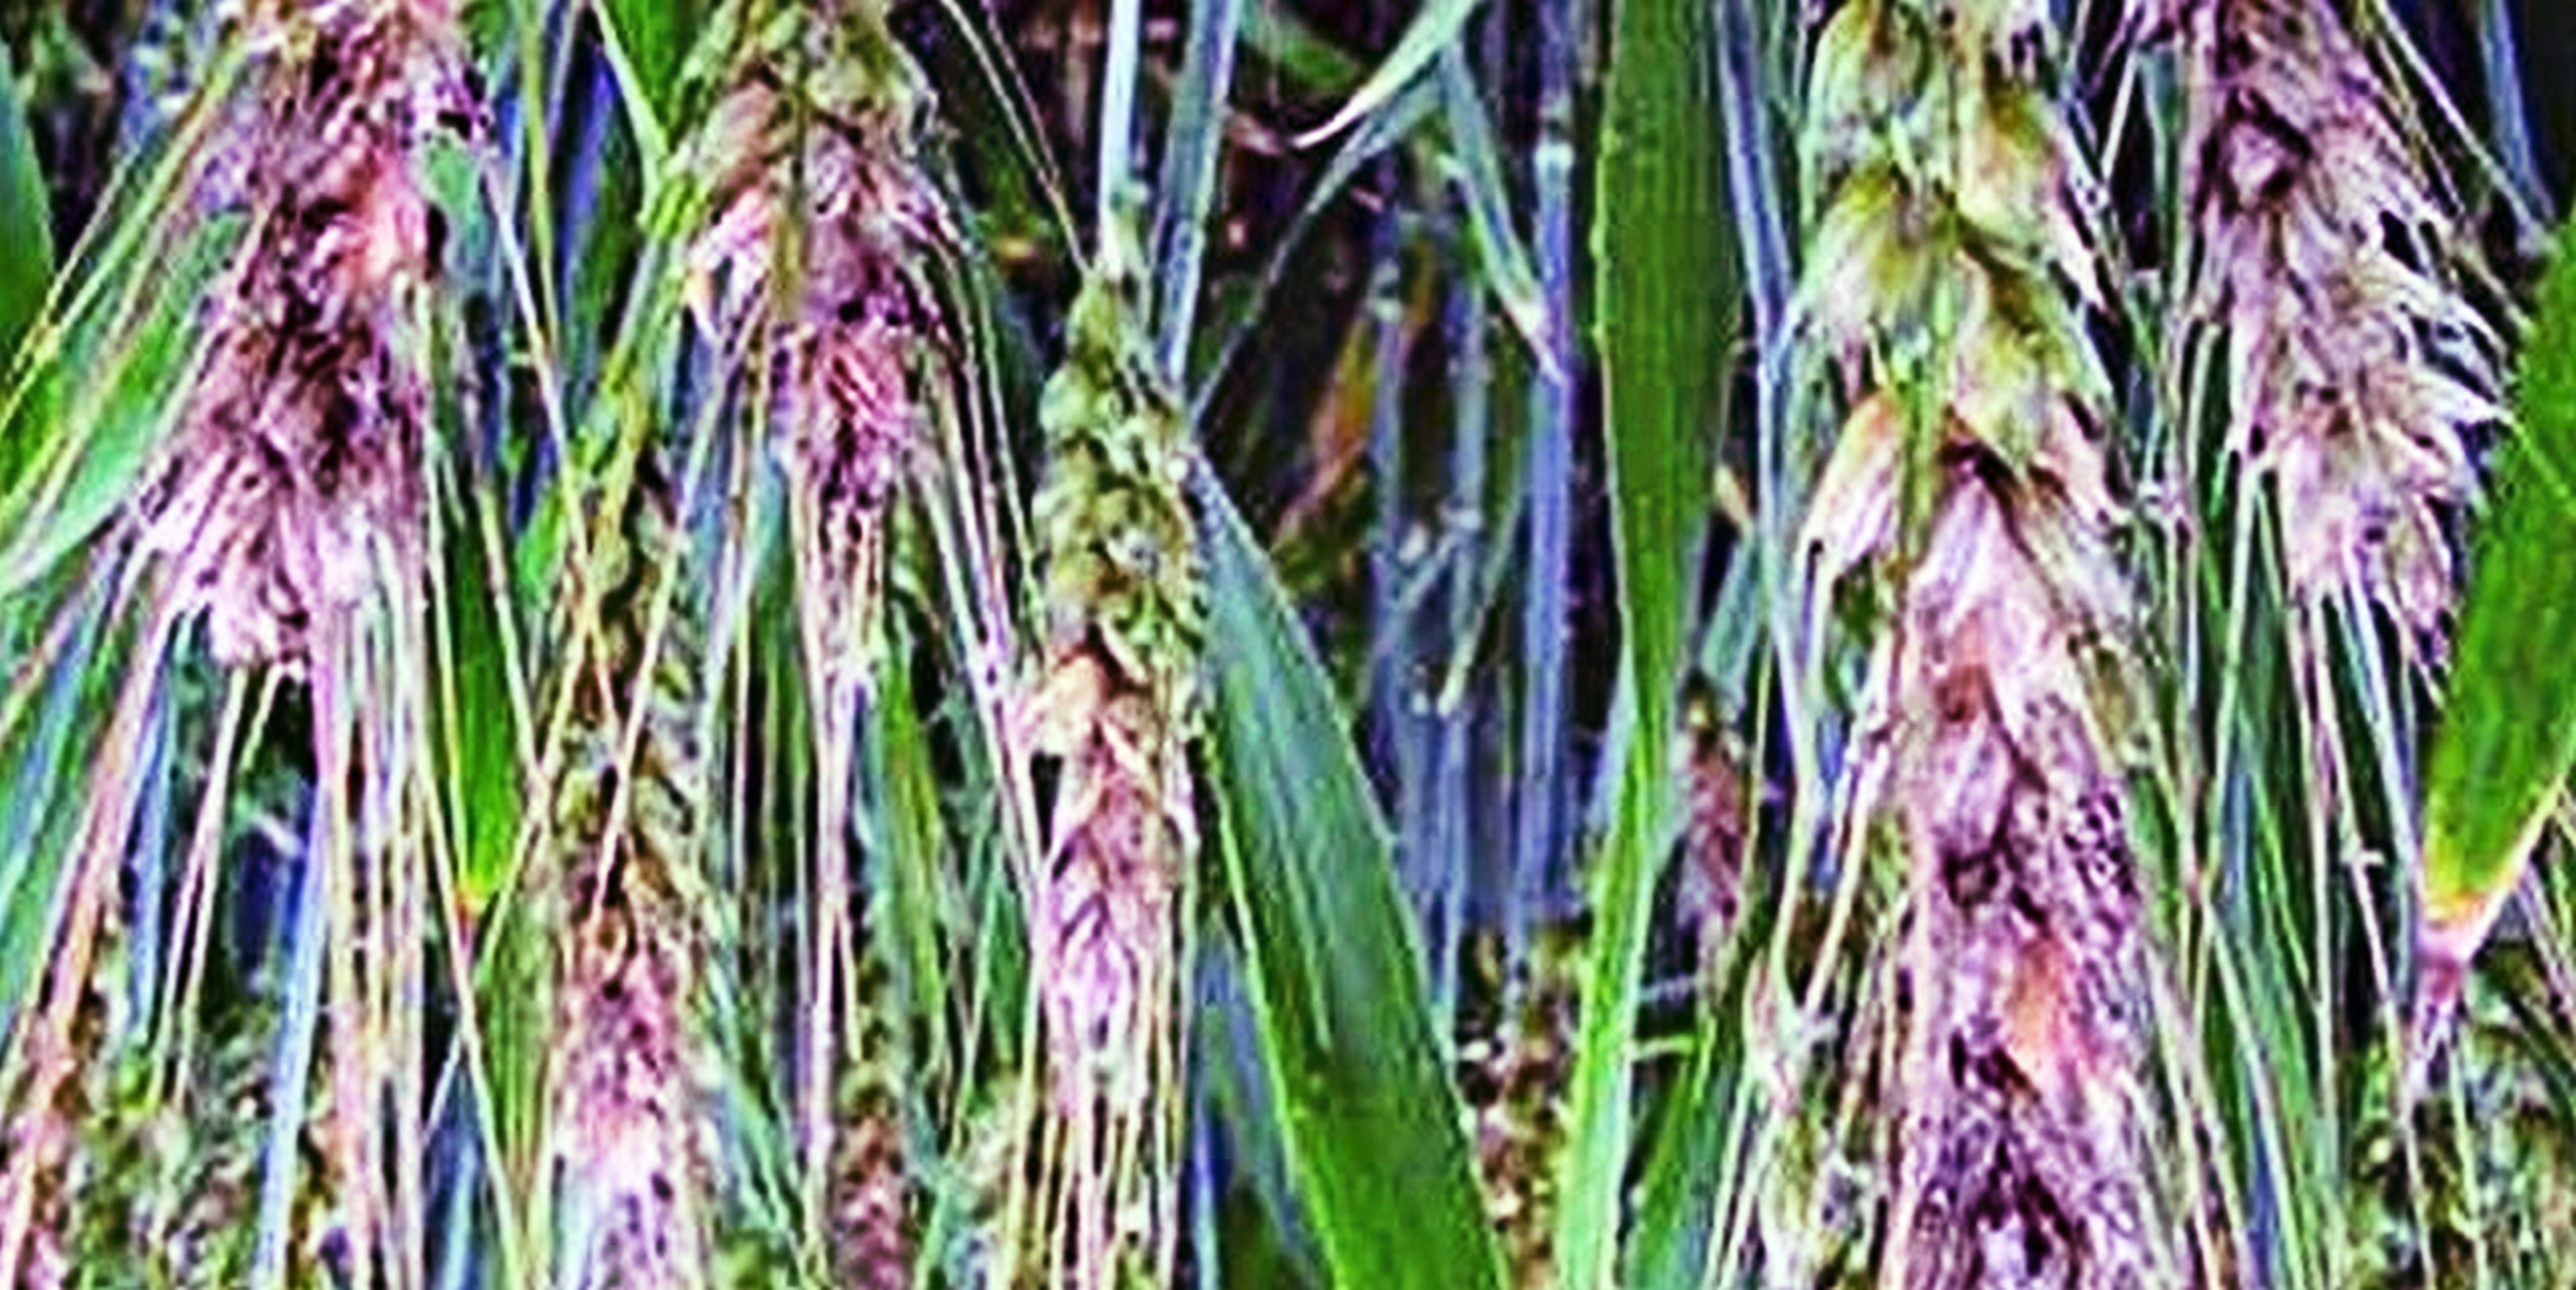Wheat scab: (1025, 273, 1214, 1094)
